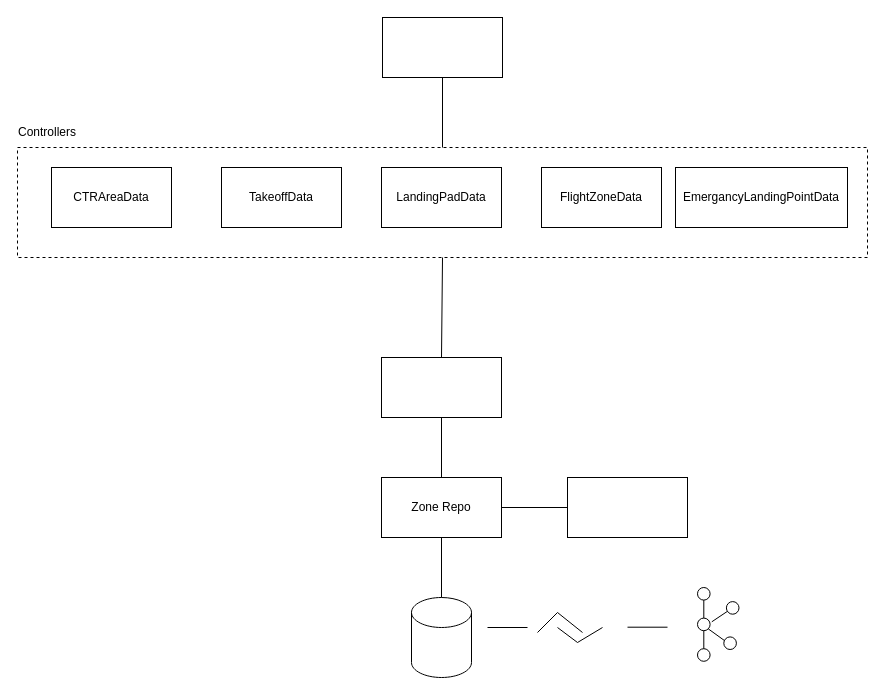
This 885x695 diagram has some shape labels left out. The centre of each missing label's shape, as x and y in pixels:
Zone Schema: point 627,507
Zone Service: point 441,387
ZoneModule: point 442,47
